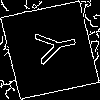Y: (24, 25, 79, 68)
